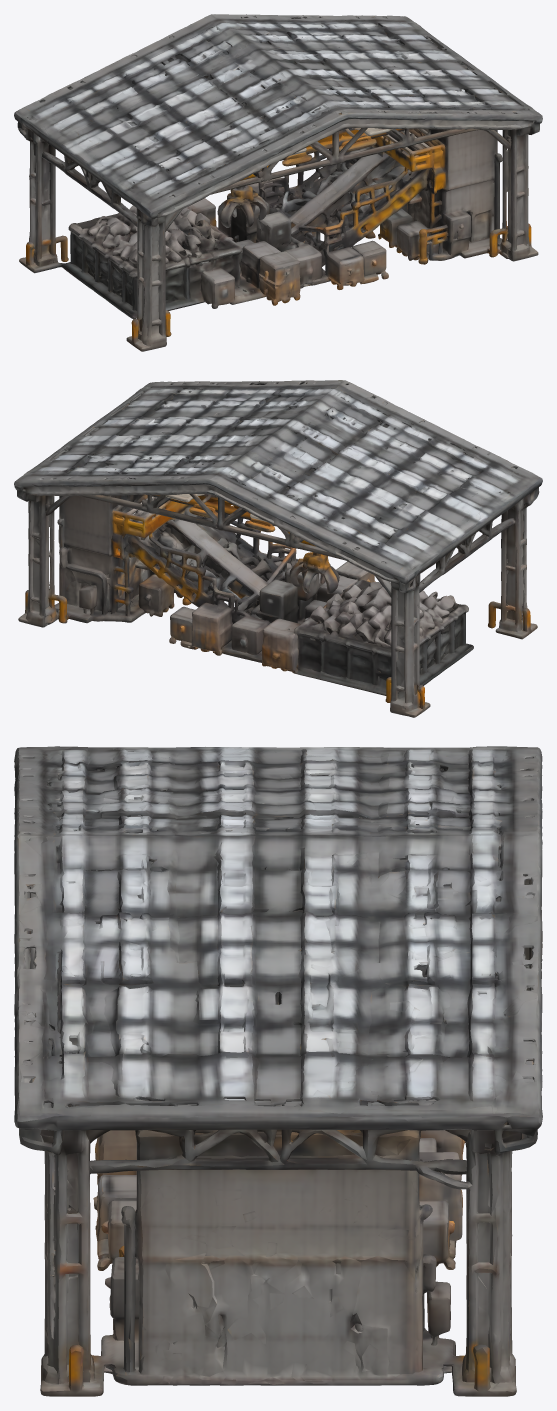
The model's file is shed.glb.
The picture shows the model from 3 angles, top to bottom: view 1: azimuth 30°, elevation 25°; view 2: azimuth 150°, elevation 25°; view 3: azimuth 270°, elevation 25°; orthographic projection. The views are drawn at different scales.
Parts seen in each view (by area): view 1: world; view 2: world; view 3: world.
Boxes of the visible parts, x1=… form: world: x1=14, y1=14, x2=542, y2=351; world: x1=14, y1=380, x2=542, y2=717; world: x1=14, y1=746, x2=542, y2=1396.
Size of the model in its own units: 24 by 11.33 by 14.36.
Materials: 1 (1 with a texture image).
